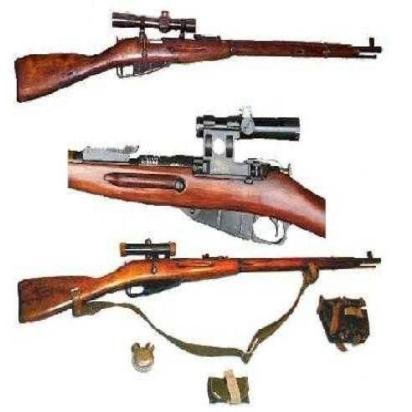Gun: (12, 6, 384, 109), (16, 233, 385, 328)
